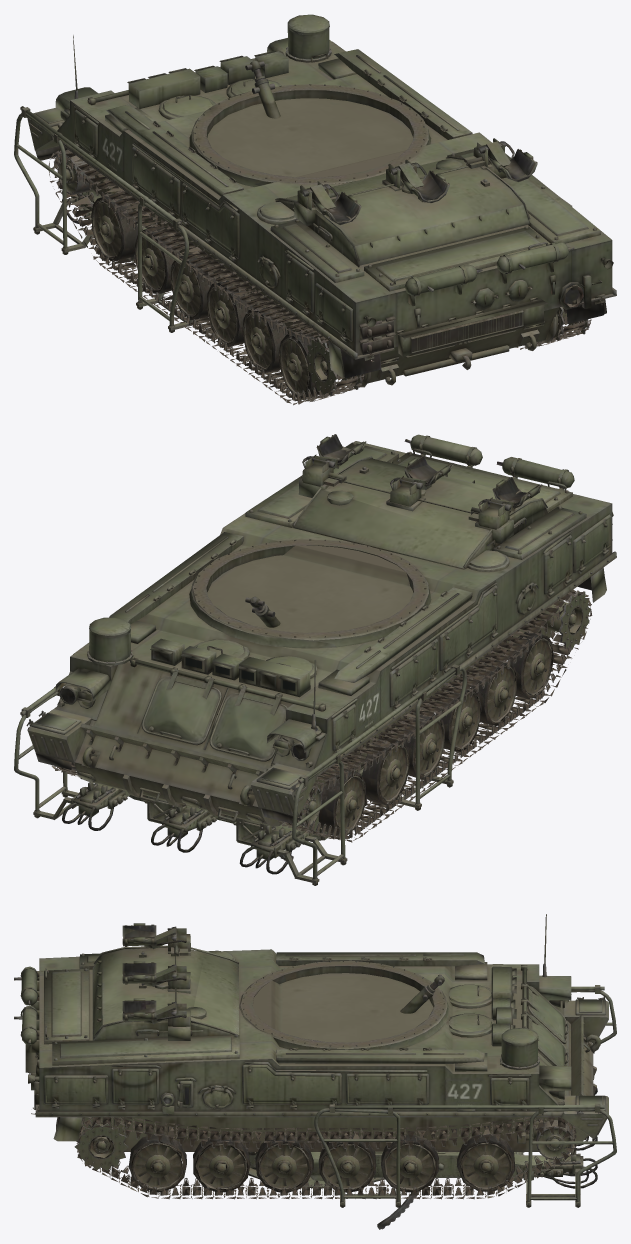
File: kub_lo.glb
3 renders of one model, top to bottom at view 1: azimuth 30°, elevation 25°; view 2: azimuth 150°, elevation 25°; view 3: azimuth 270°, elevation 25°, orthographic. The views are drawn at different scales.
Parts seen in each view (by area): view 1: body|KB_K, body|KB_H, body|KB_R, body|KB_T, cradle|KB_G, cyl0|KB_T; view 2: body|KB_K, body|KB_H, body|KB_R, cradle|KB_G, body|KB_T; view 3: body|KB_K, body|KB_H, body|KB_R, body|KB_T, cradle|KB_G.
Boxes of the visible parts, x1,y1,x2,y2 form: body|KB_K: (55,14,613,387); body|KB_H: (27,40,616,383); body|KB_R: (48,149,591,405); body|KB_T: (73,41,572,341); cradle|KB_G: (14,106,253,332); cyl0|KB_T: (252,79,280,118); body|KB_K: (55,434,613,823); body|KB_H: (26,441,616,826); body|KB_R: (51,589,592,842); cradle|KB_G: (14,664,466,885); body|KB_T: (73,514,610,752); body|KB_K: (14,914,600,1142); body|KB_H: (35,949,608,1151); body|KB_R: (74,1117,577,1199); body|KB_T: (43,964,531,1114); cradle|KB_G: (308,985,616,1207).
Size of the model in its own units: 3.35 by 3.39 by 7.04.
Materials: 11 (10 with a texture image).
